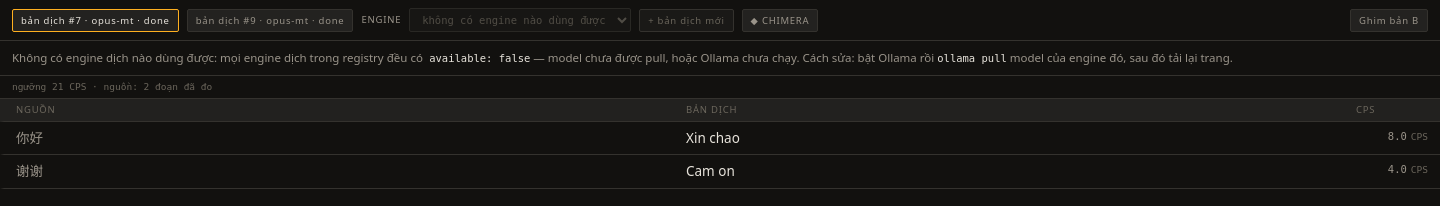
CompareScreen: §4.3 hai cot + cot CPS + segmented control + ghim ban B › chon ban dich khac thi cot PHAI doi theo, cot TRAI khong doi
Click the radio button with test id "pick-9".
click(270, 20)  # box [187,8,353,32]
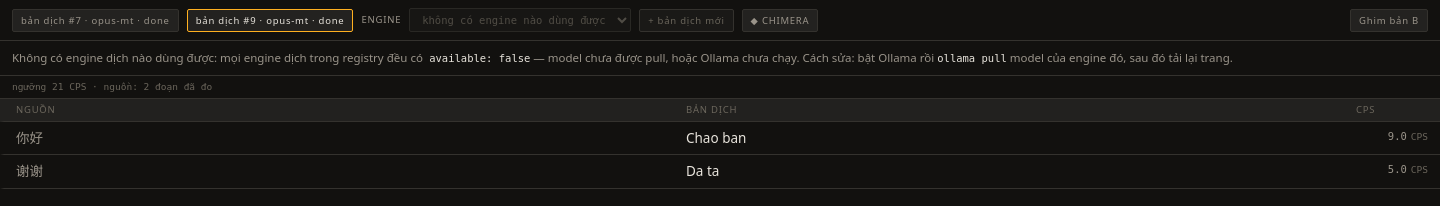
Check: the text with test id "col-right" reads "Chao ban", box [686,129,746,147]
